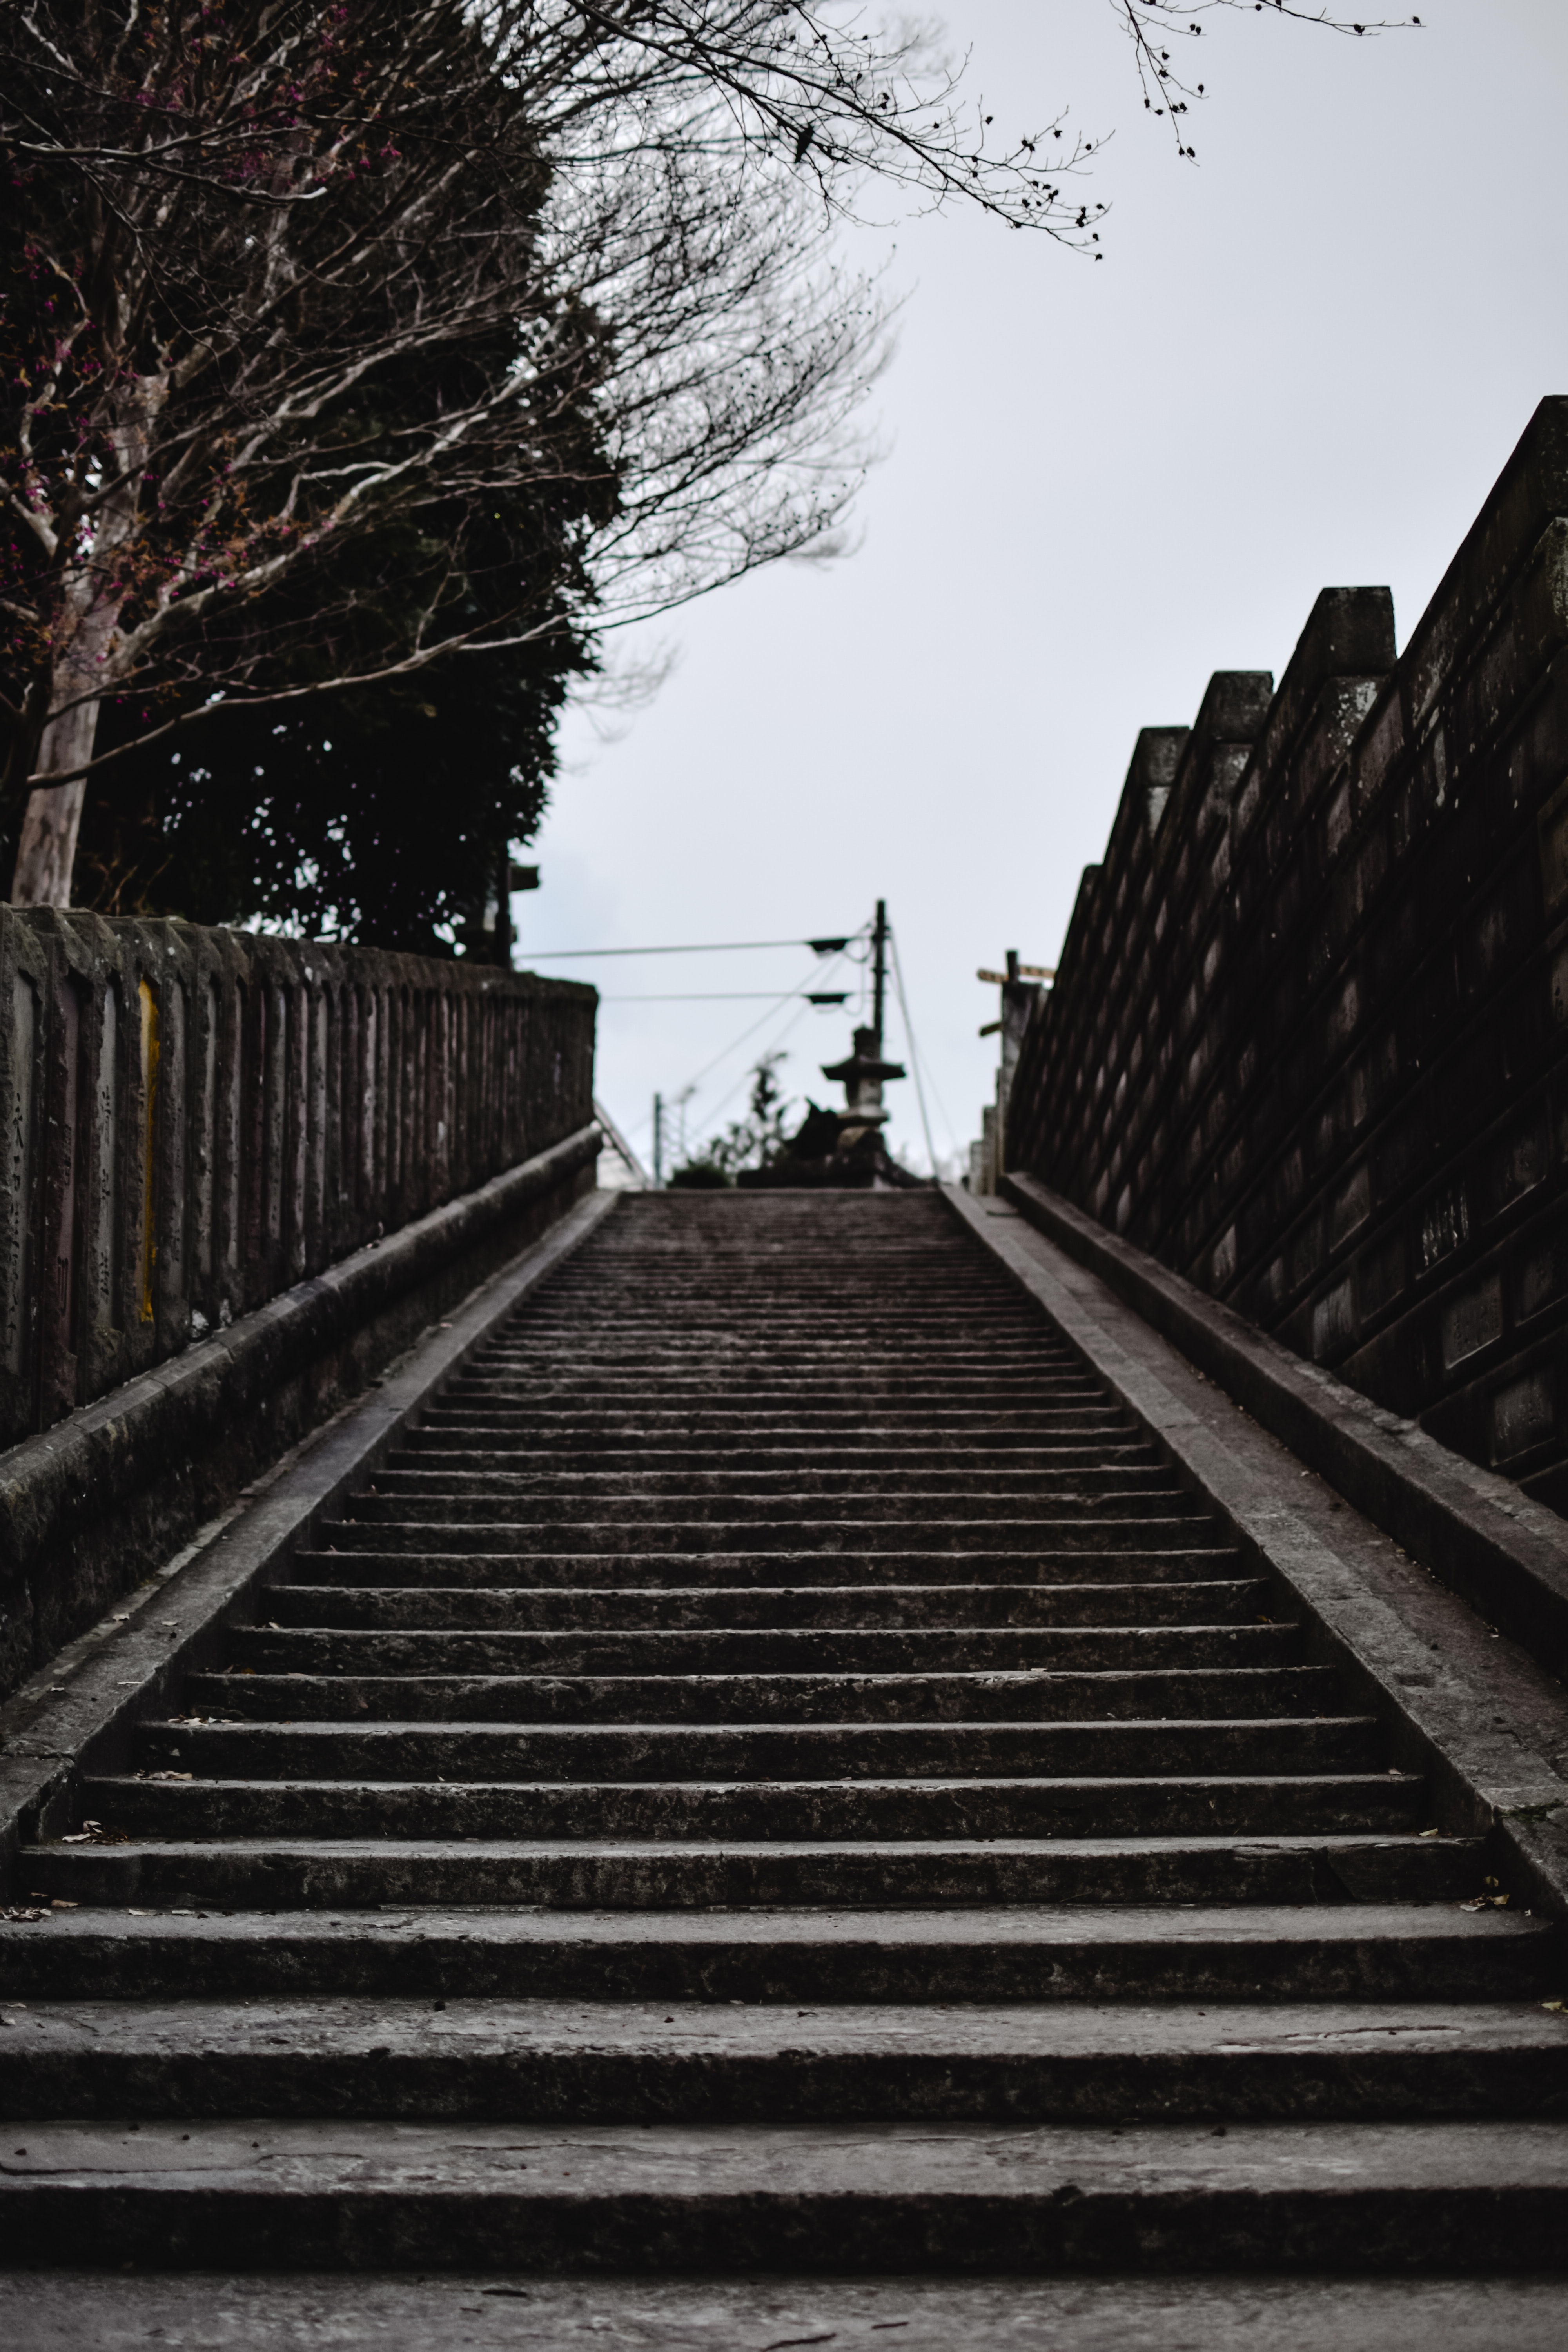upstairs: (156, 1690, 1377, 2322)
